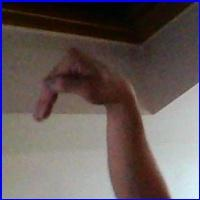A: (33, 39, 129, 130)
